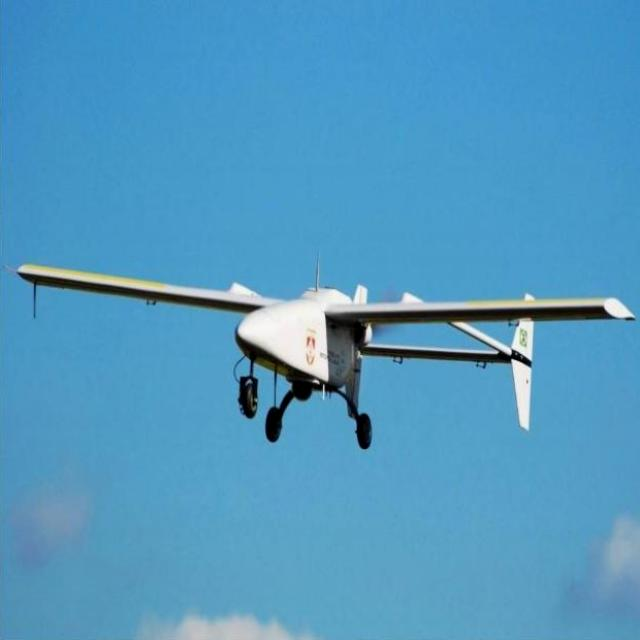plane: (5, 251, 636, 450)
